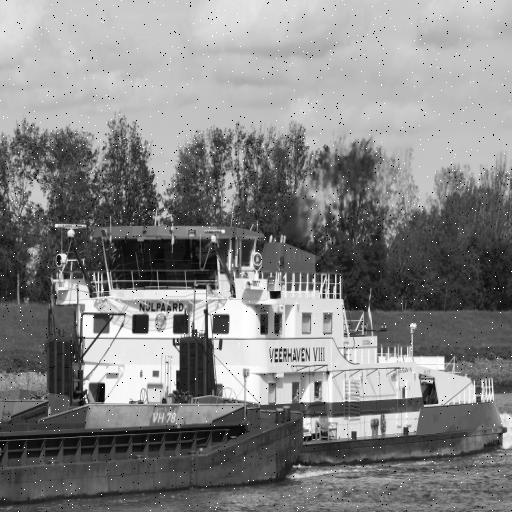tugboat: (44, 213, 511, 472)
